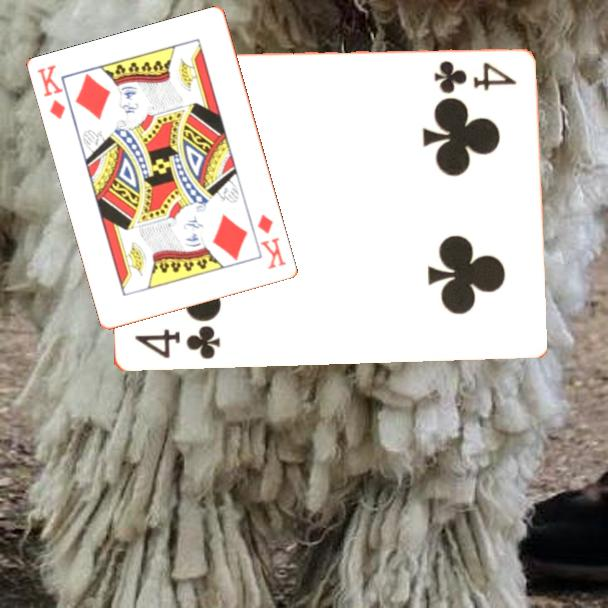c04: (130, 322, 223, 362), (430, 57, 519, 95)
d13: (254, 211, 290, 273), (34, 61, 69, 123)
